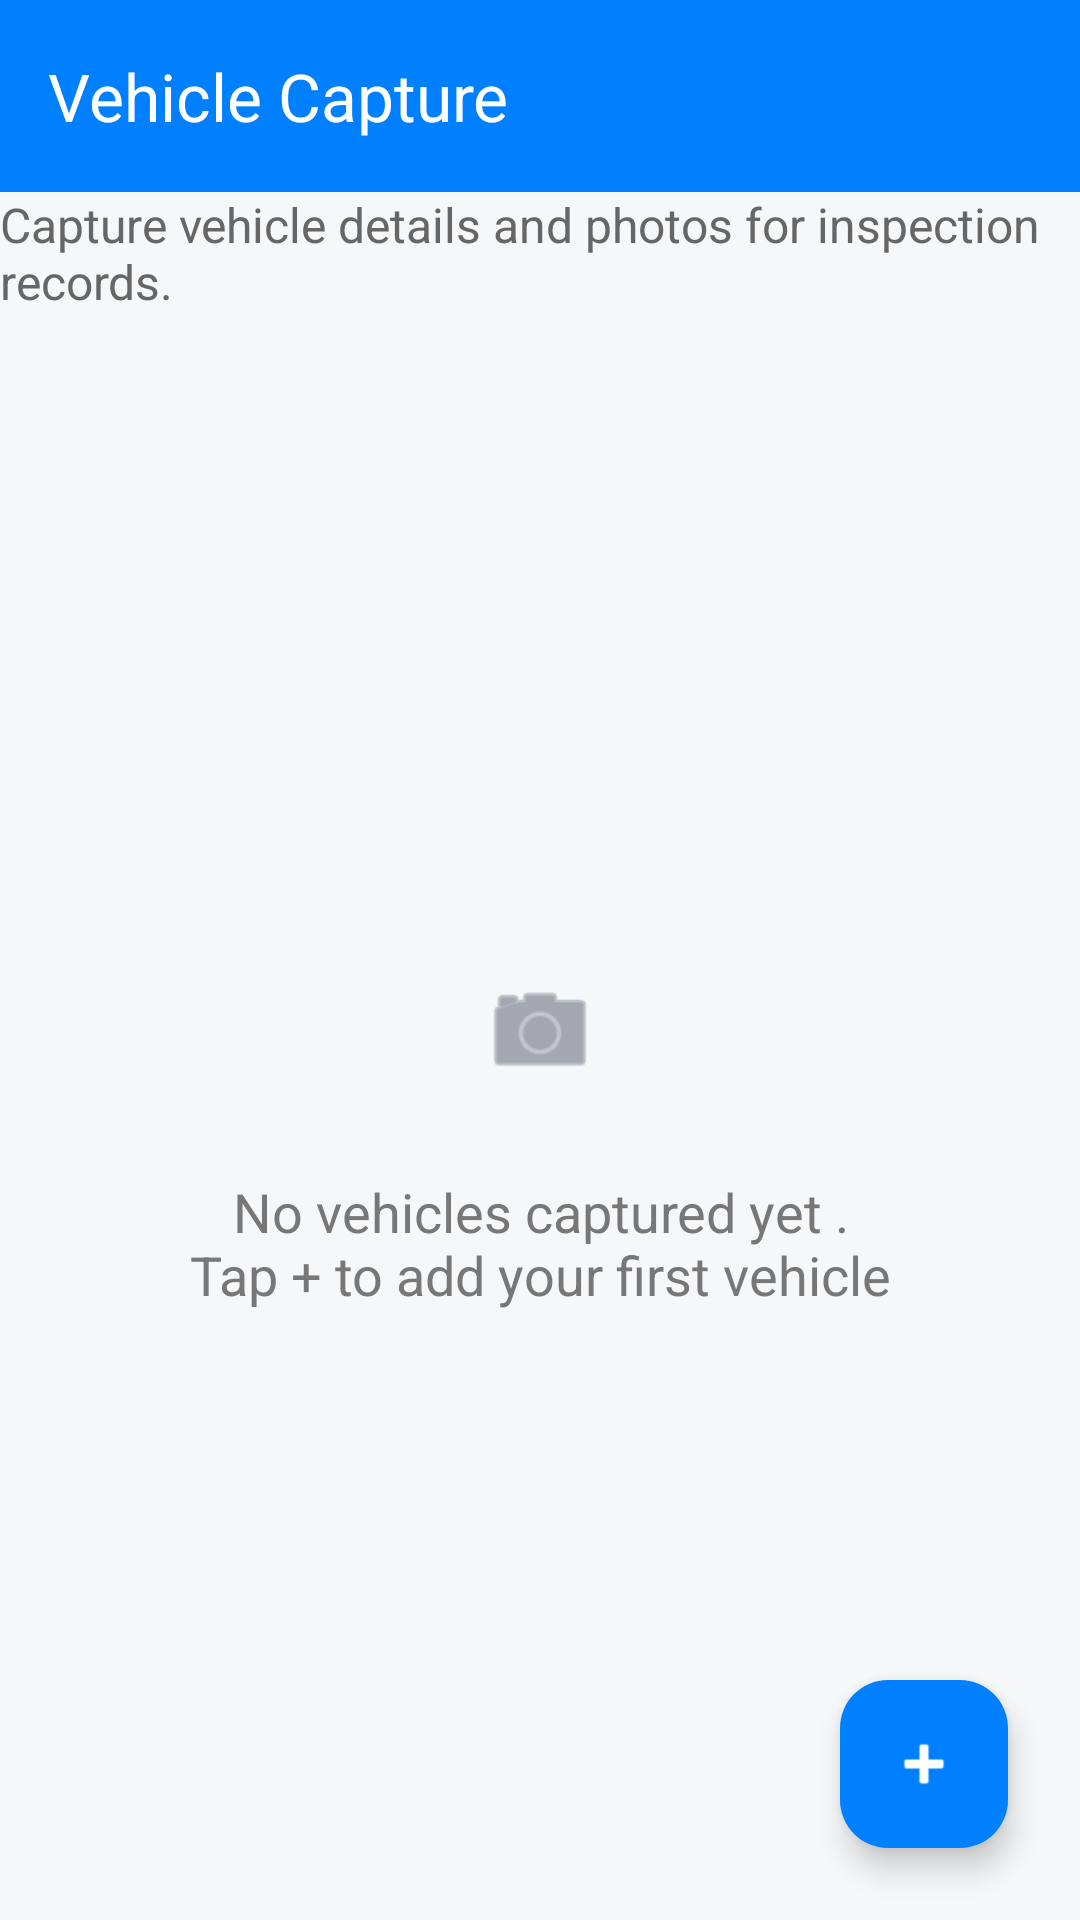

Where icons sit on this 1080px×1920px app screen, as BBox(x1, y1, x2, y2):
Add vehicle: BBox(840, 1680, 1008, 1848)
